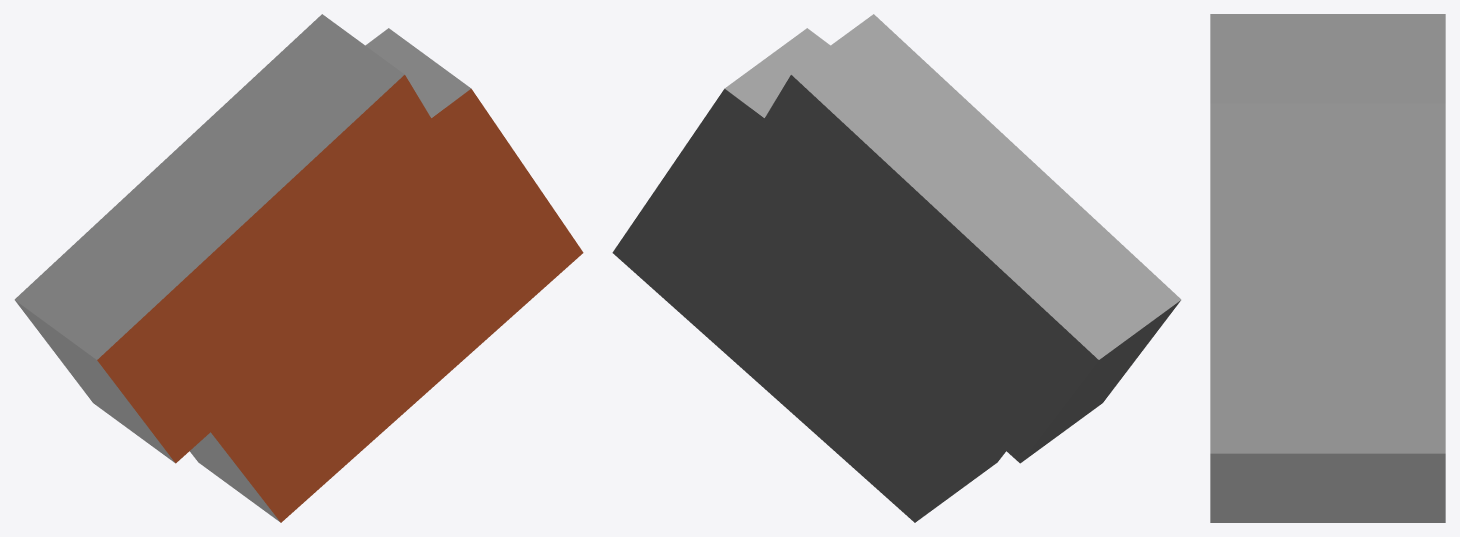
Rendered from construction_6060_assumed_A_Casa_h6m.obj.
3 views of the same model, side by side, from view 1: azimuth 30°, elevation 25°; view 2: azimuth 150°, elevation 25°; view 3: azimuth 270°, elevation 25° (orthographic). The views are drawn at different scales.
Parts seen in each view (by area): view 1: construction_6060_assumed_A_Casa; view 2: construction_6060_assumed_A_Casa; view 3: construction_6060_assumed_A_Casa.
Boxes of the visible parts, box(x1,y1,x2,y2) form: construction_6060_assumed_A_Casa: box(14, 14, 583, 522); construction_6060_assumed_A_Casa: box(612, 14, 1181, 522); construction_6060_assumed_A_Casa: box(1210, 14, 1445, 522).
Size of the model in its own units: 20.39 by 16.75 by 6.
